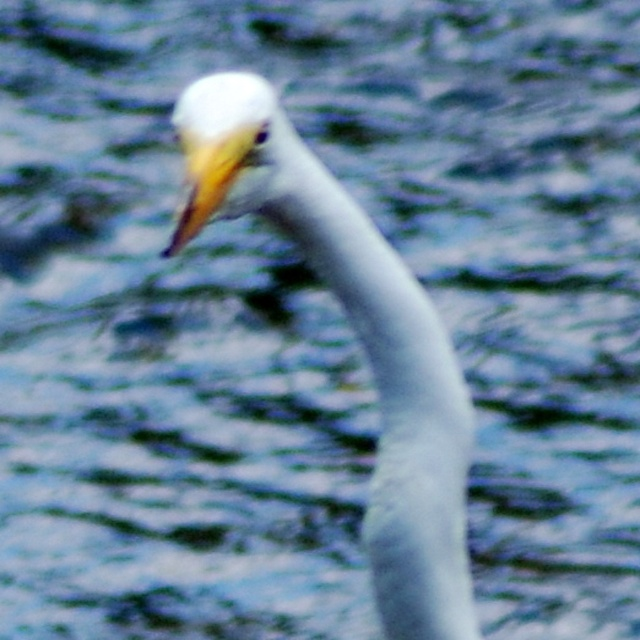Swan: (162, 73, 481, 639)
